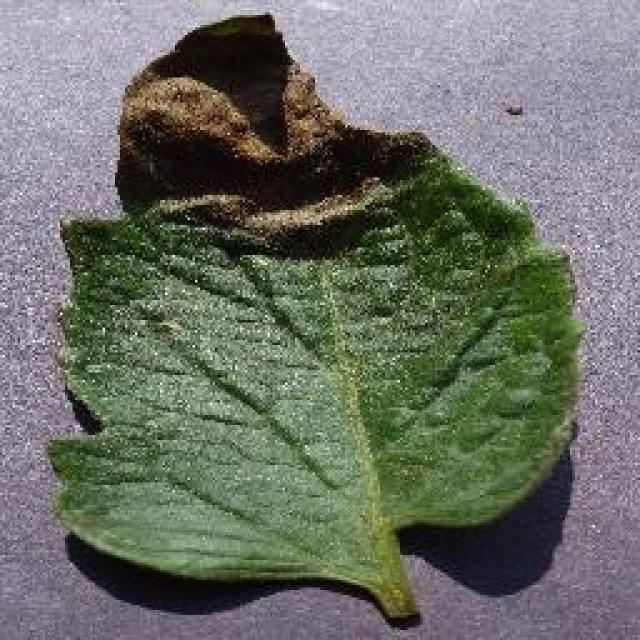Tomato___Late_blight: (45, 15, 582, 625)
